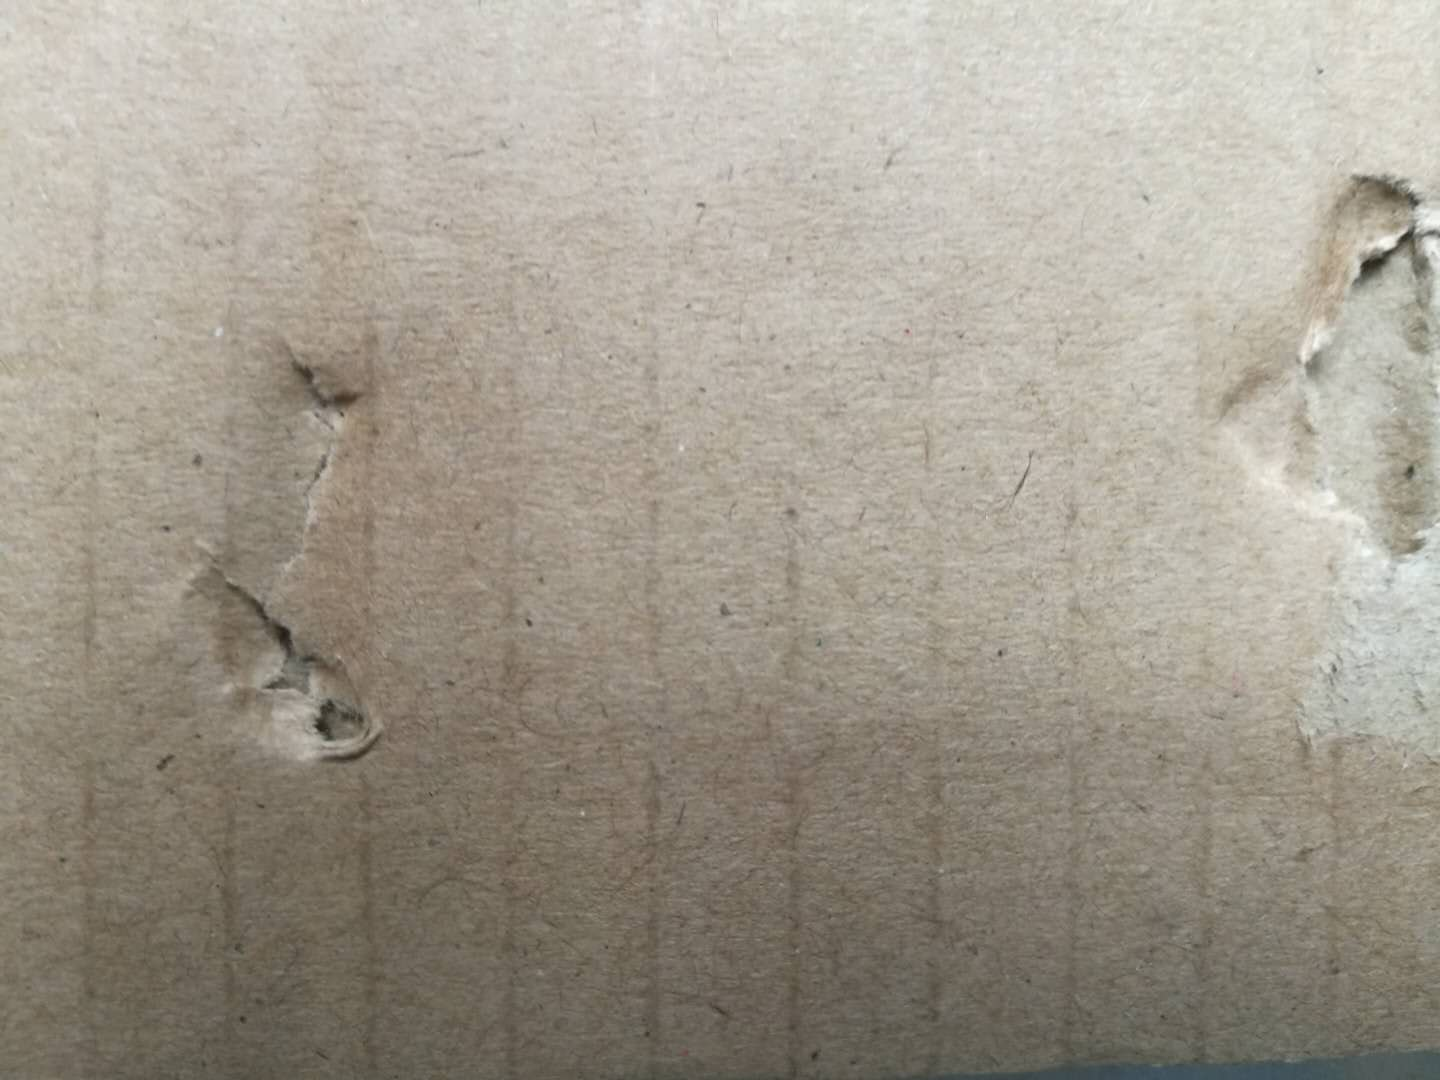defect: (1179, 126, 1440, 828), (122, 285, 452, 822)
